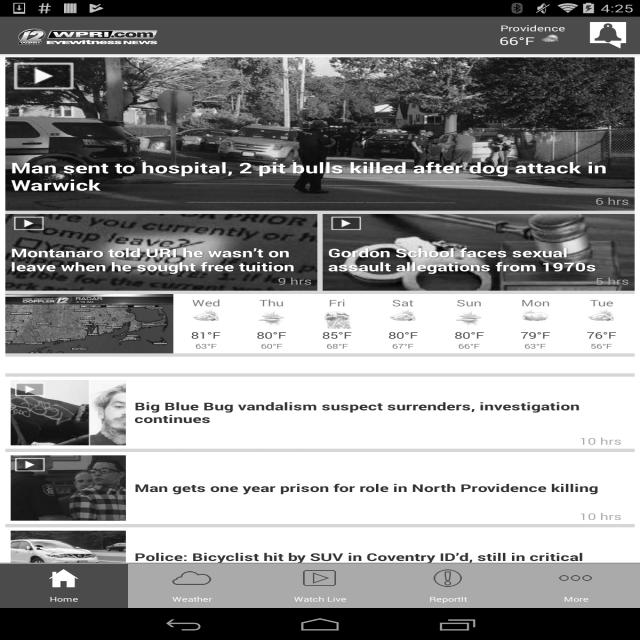ImageView: (5, 57, 635, 211), (5, 214, 318, 291), (322, 214, 634, 291), (5, 294, 174, 353), (11, 376, 126, 448), (11, 436, 126, 508), (11, 528, 126, 600), (18, 22, 182, 51), (14, 57, 73, 95), (587, 22, 629, 49), (187, 309, 226, 329), (252, 309, 291, 329), (318, 309, 357, 329), (383, 309, 422, 329), (449, 309, 488, 329), (582, 309, 621, 329), (516, 309, 554, 329), (14, 214, 44, 233), (331, 214, 361, 233), (15, 380, 45, 399), (15, 439, 45, 457), (535, 34, 565, 48), (13, 35, 14, 36)
RadioButton: (0, 564, 128, 608), (128, 564, 256, 608), (256, 564, 384, 608), (384, 564, 512, 608), (512, 564, 640, 608)
TextView: (11, 158, 629, 195), (135, 399, 628, 426), (135, 550, 628, 576), (11, 244, 312, 275), (328, 244, 629, 275), (11, 195, 629, 207), (135, 464, 628, 478), (11, 275, 312, 287), (328, 275, 629, 287), (500, 22, 566, 34), (579, 493, 622, 506), (579, 435, 622, 447), (499, 34, 535, 48), (191, 329, 221, 341), (256, 329, 286, 341), (322, 329, 352, 341), (388, 329, 418, 341), (454, 329, 484, 341), (520, 329, 550, 341), (586, 329, 616, 341), (521, 297, 550, 309), (192, 297, 220, 309), (456, 297, 482, 309), (259, 297, 284, 309), (590, 297, 613, 309), (392, 297, 414, 309), (195, 341, 217, 351), (260, 341, 282, 351), (326, 341, 348, 351), (392, 341, 414, 351), (458, 341, 480, 351), (524, 341, 546, 351), (590, 341, 612, 351), (328, 297, 346, 309)
